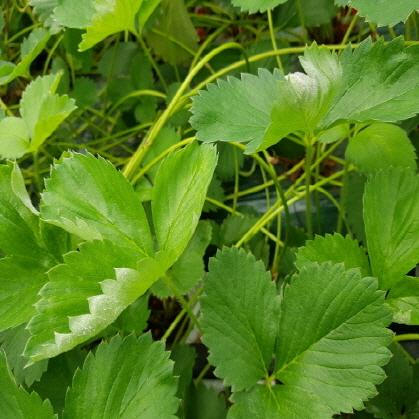Powdery Mildew Leaf: (21, 238, 164, 369), (186, 39, 344, 155)
